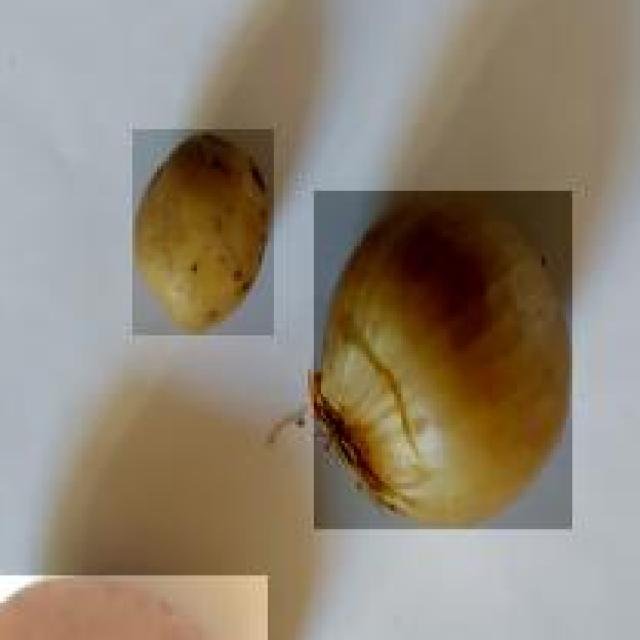onion: (310, 191, 572, 532)
potato: (129, 130, 274, 338)
